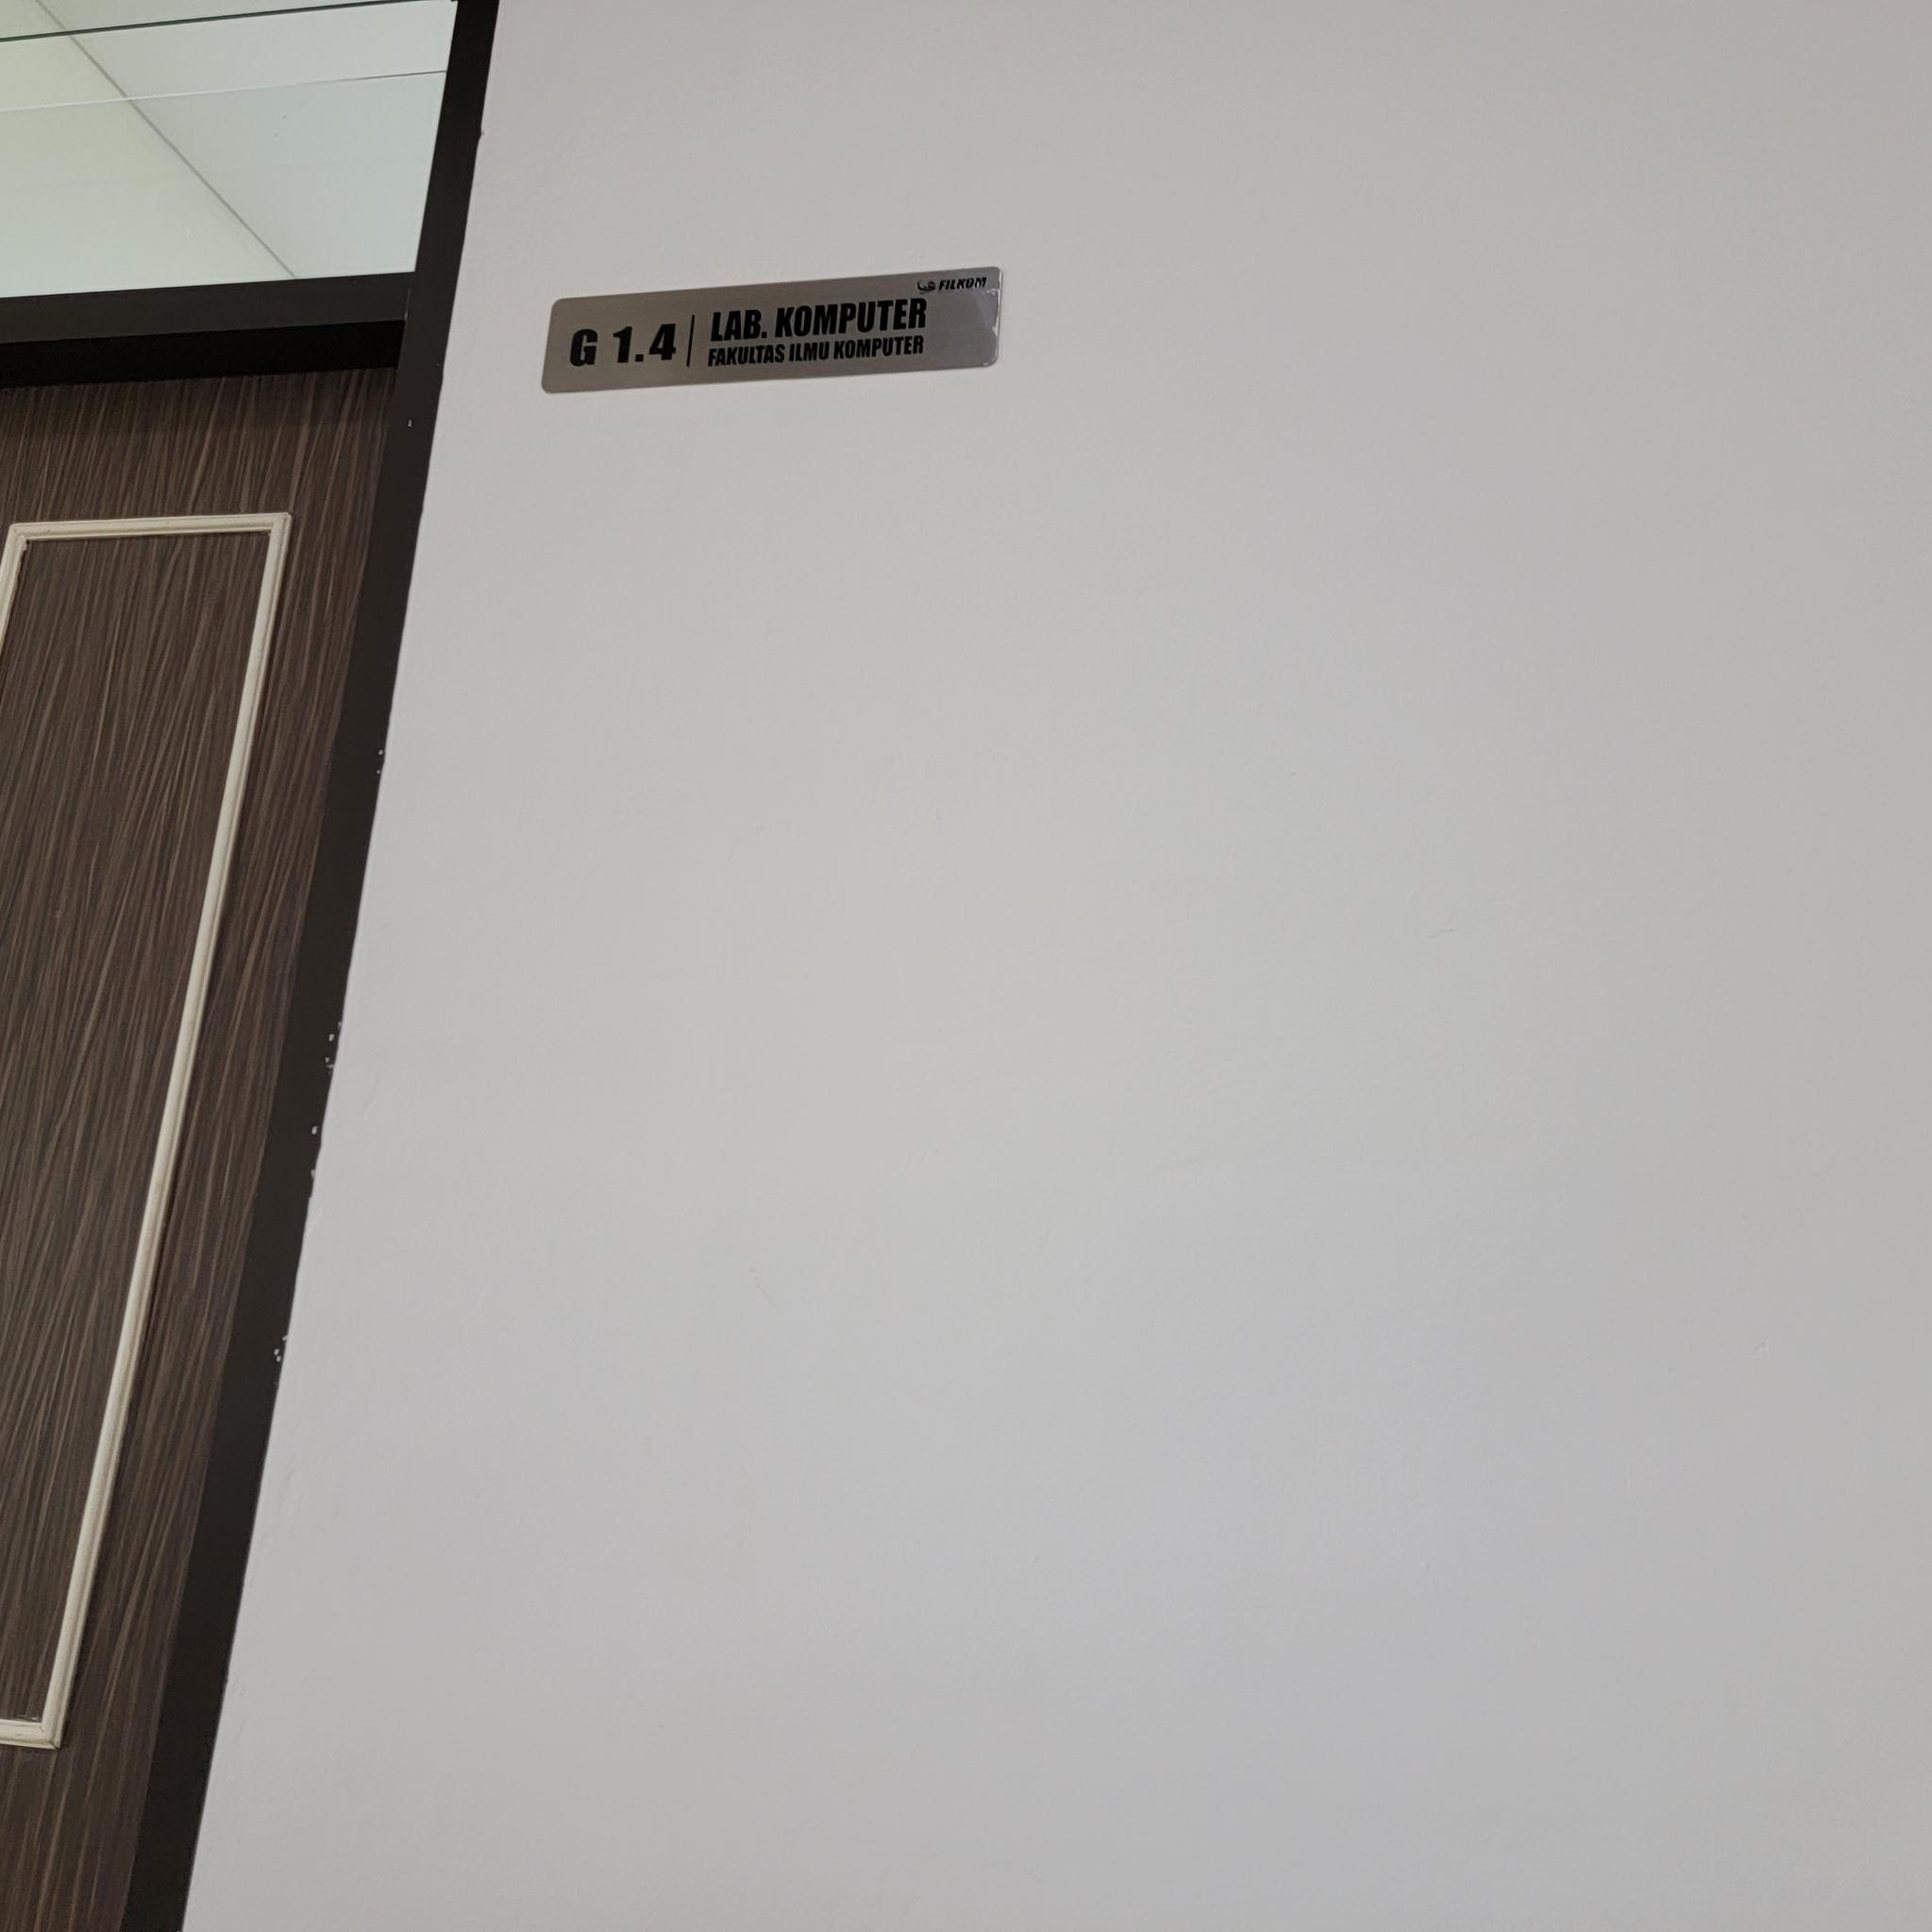plate: (541, 265, 1003, 396)
